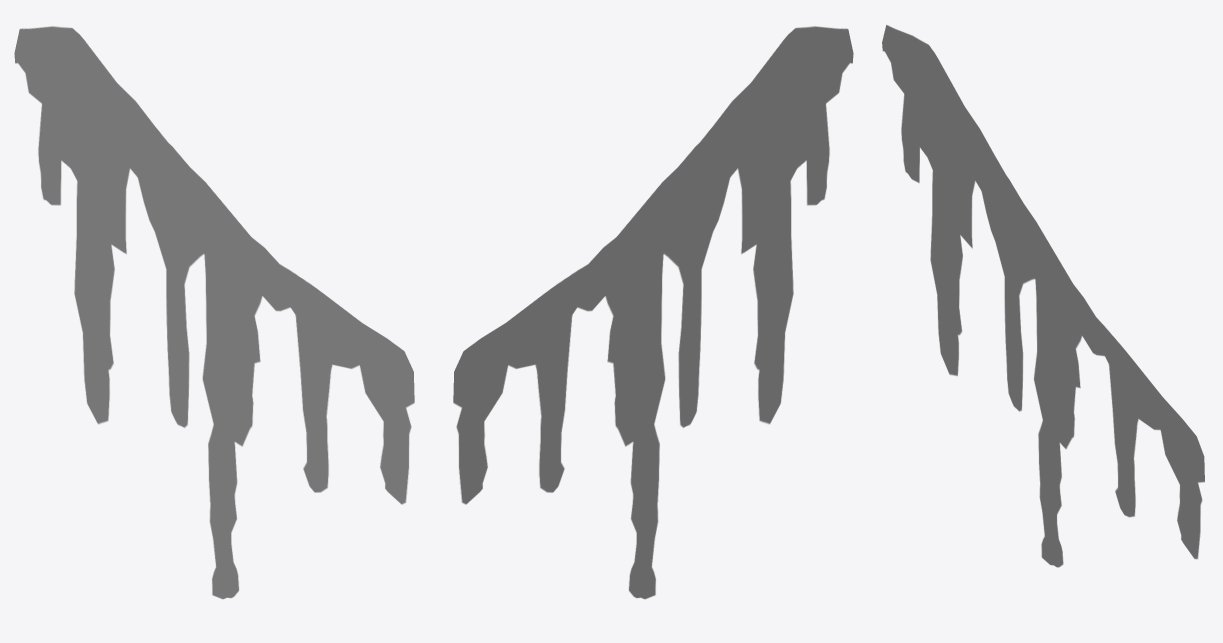
Rendered from crypt_grunge_w.gltf.
The picture shows the model from 3 angles, left to right: view 1: azimuth 30°, elevation 25°; view 2: azimuth 150°, elevation 25°; view 3: azimuth 330°, elevation 25°; orthographic projection. The views are drawn at different scales.
Visible parts, largest first — view 1: crypt_grunge_w; view 2: crypt_grunge_w; view 3: crypt_grunge_w.
Part boxes in pixels (box(x1,y1,x2,y2)): crypt_grunge_w: box(14, 26, 414, 599); crypt_grunge_w: box(453, 26, 853, 599); crypt_grunge_w: box(882, 25, 1204, 567).
Bounding box in the file's own units: 1.95 × 3.07 × 9.73e-08.
1 material, 1 textured.
